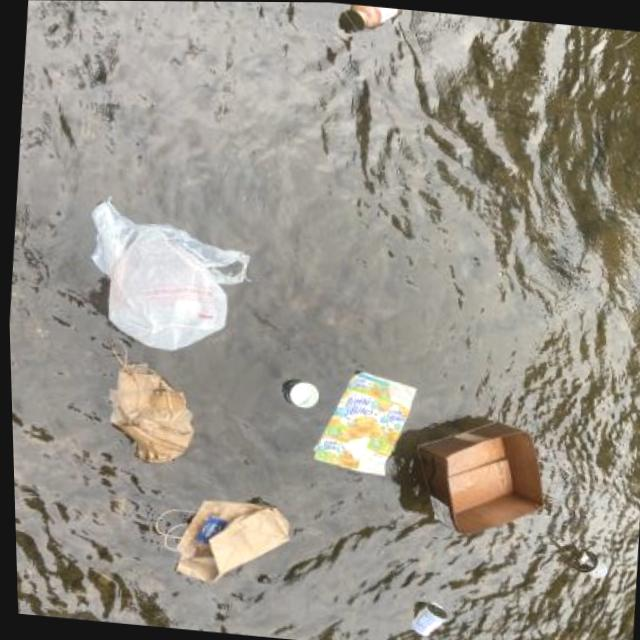Bottle-Glass: (326, 2, 410, 42)
Can-Metal: (396, 596, 448, 640)
Cardboard: (398, 410, 551, 549), (297, 357, 421, 483)
Paper: (143, 481, 297, 594), (81, 331, 205, 471), (276, 376, 325, 416)
Plastic: (69, 189, 258, 362)
